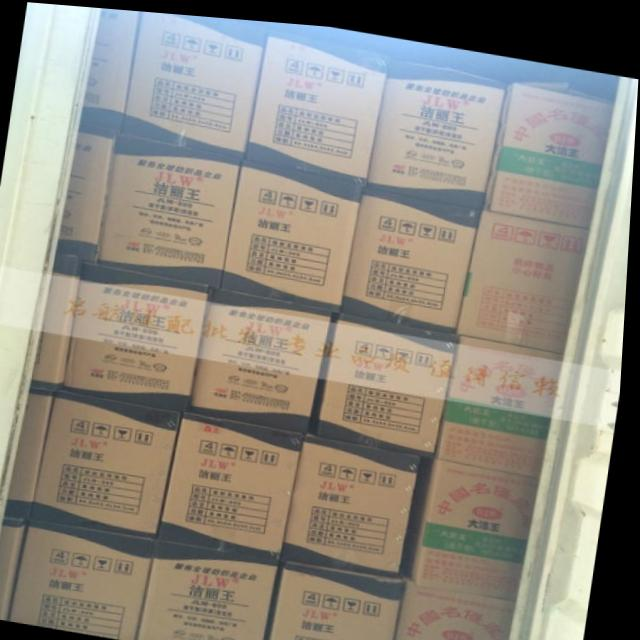box: (65, 255, 215, 409), (246, 23, 392, 179), (38, 389, 188, 535), (100, 130, 244, 282), (222, 152, 364, 305), (318, 303, 463, 449), (162, 410, 309, 553), (122, 9, 266, 152), (341, 179, 482, 324), (195, 282, 336, 427), (370, 52, 507, 199), (287, 426, 425, 569), (404, 450, 543, 590), (460, 199, 592, 342), (482, 71, 612, 216), (437, 326, 566, 469), (18, 516, 159, 637), (144, 538, 287, 640), (273, 554, 409, 640), (400, 570, 527, 640), (58, 123, 118, 259), (36, 249, 86, 389), (8, 386, 61, 518), (83, 6, 140, 128), (0, 517, 39, 618)
